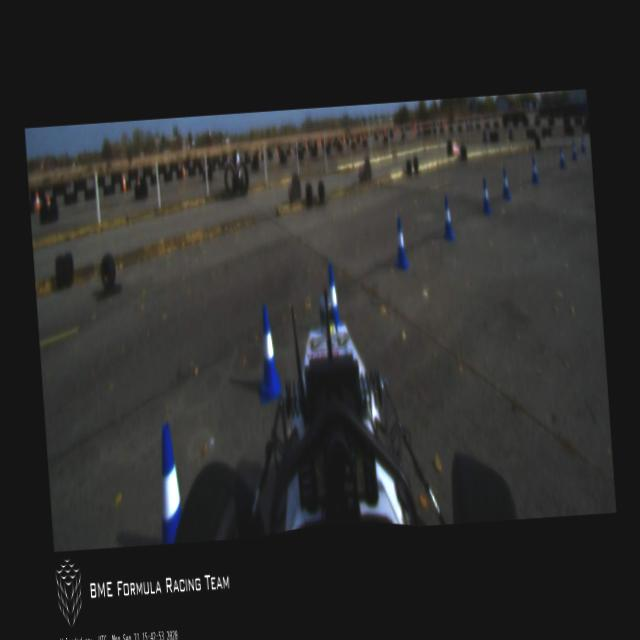blue_cone: (154, 423, 184, 543), (255, 306, 281, 404), (389, 216, 408, 268), (326, 263, 340, 324), (439, 194, 455, 242), (478, 178, 492, 214), (499, 165, 512, 200), (529, 156, 538, 181), (557, 144, 565, 170), (570, 140, 578, 162), (580, 135, 586, 154)
